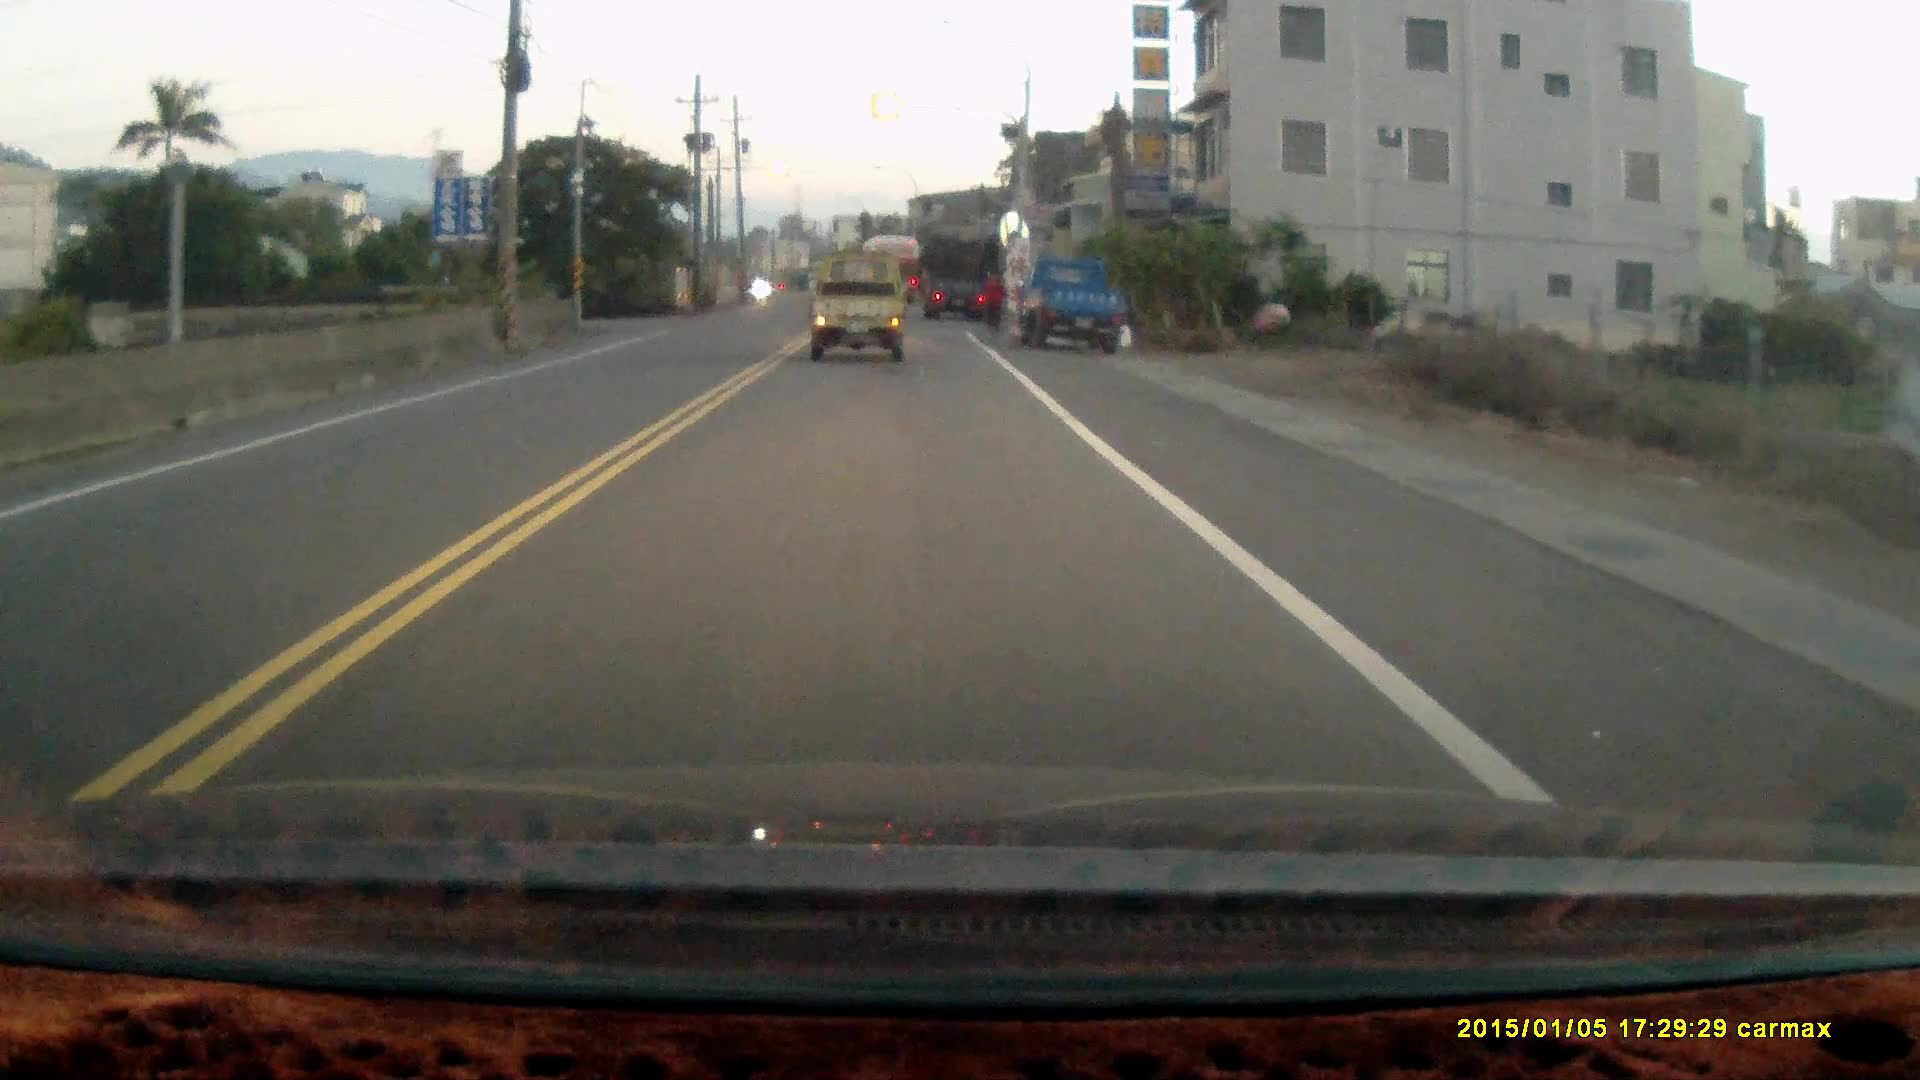pedestrian: (979, 271, 1004, 339)
vehicle: (808, 256, 909, 370), (1012, 255, 1123, 351), (921, 242, 1000, 319)
